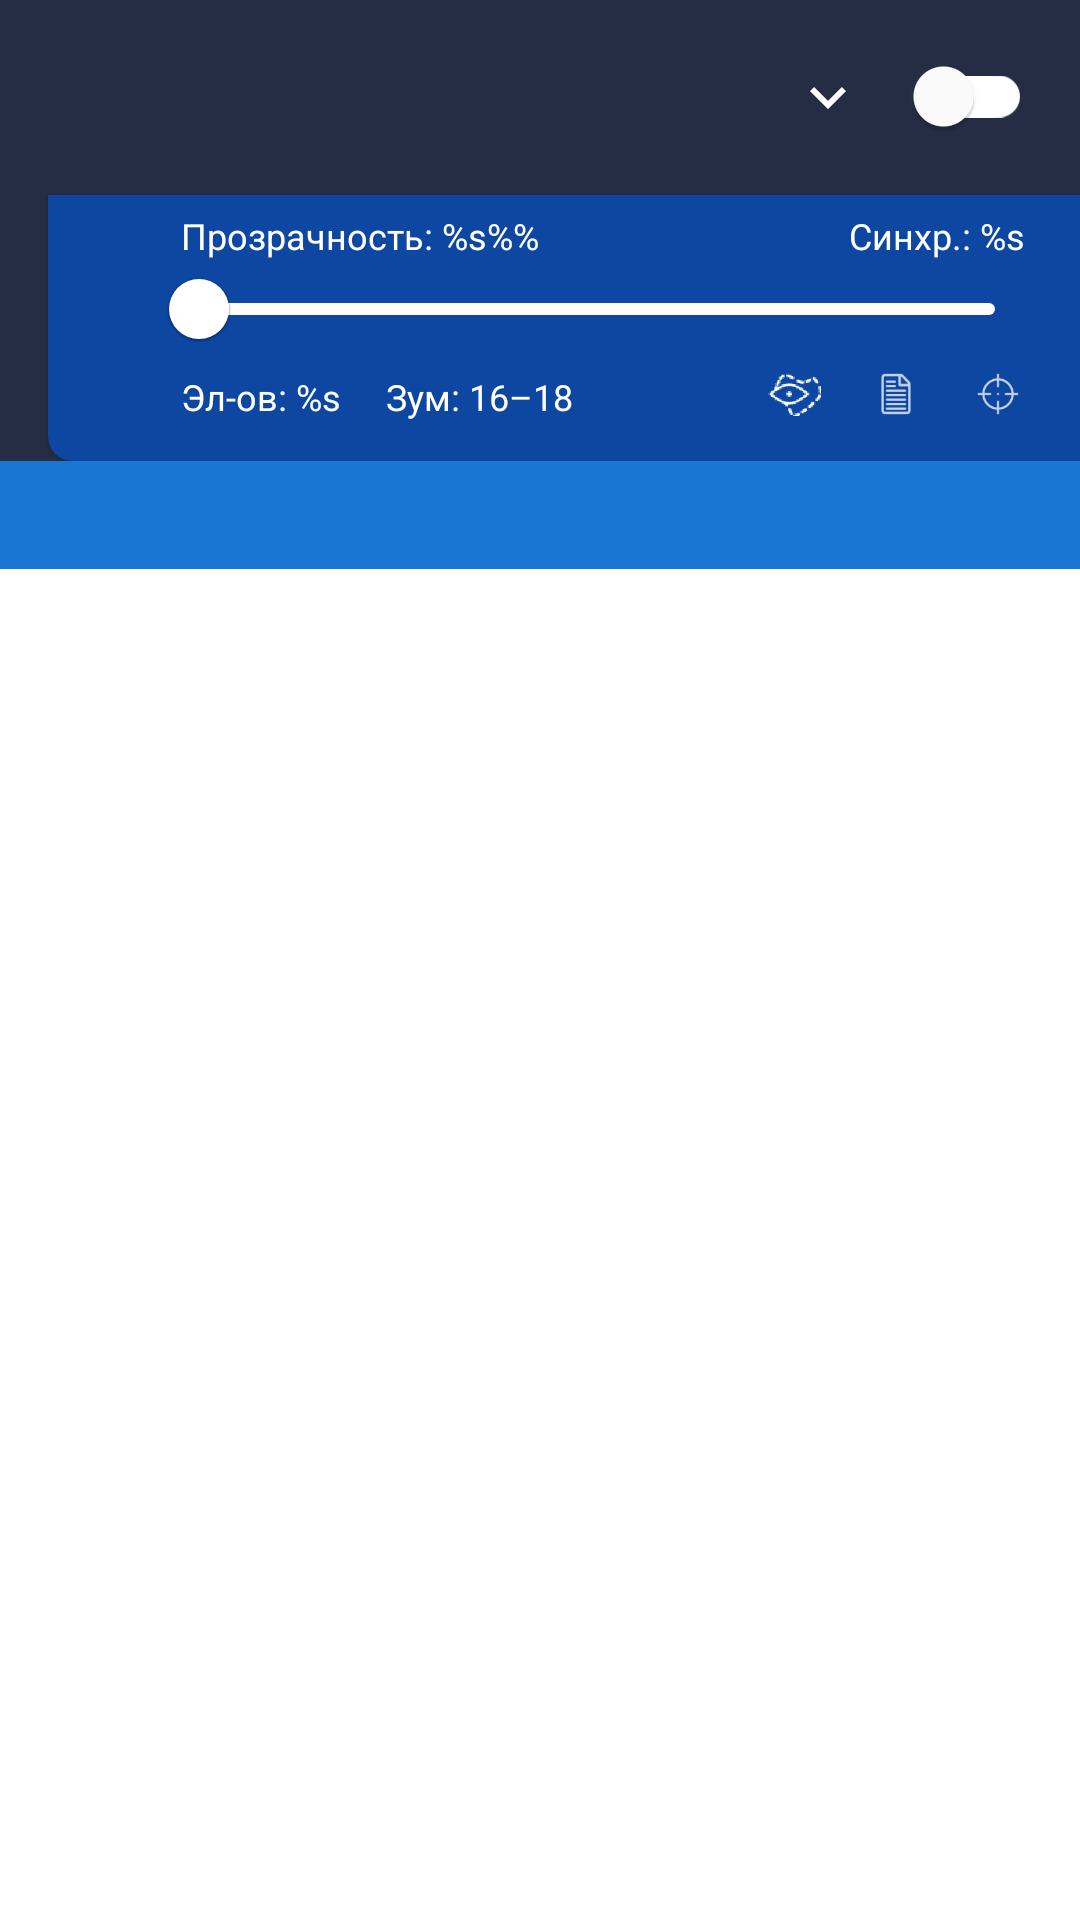

Screen size 1080 x 1920. Icon name, then its center in pixels as point (x, y):
Arrow Down: point (828, 98)
center to gps: point (998, 394)
eye figure: point (794, 394)
note: point (896, 394)
